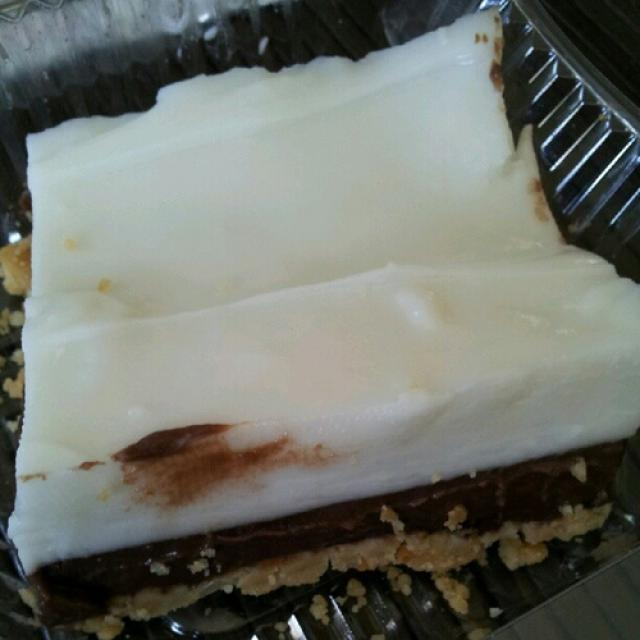蛋糕甜品: (9, 28, 621, 602)
